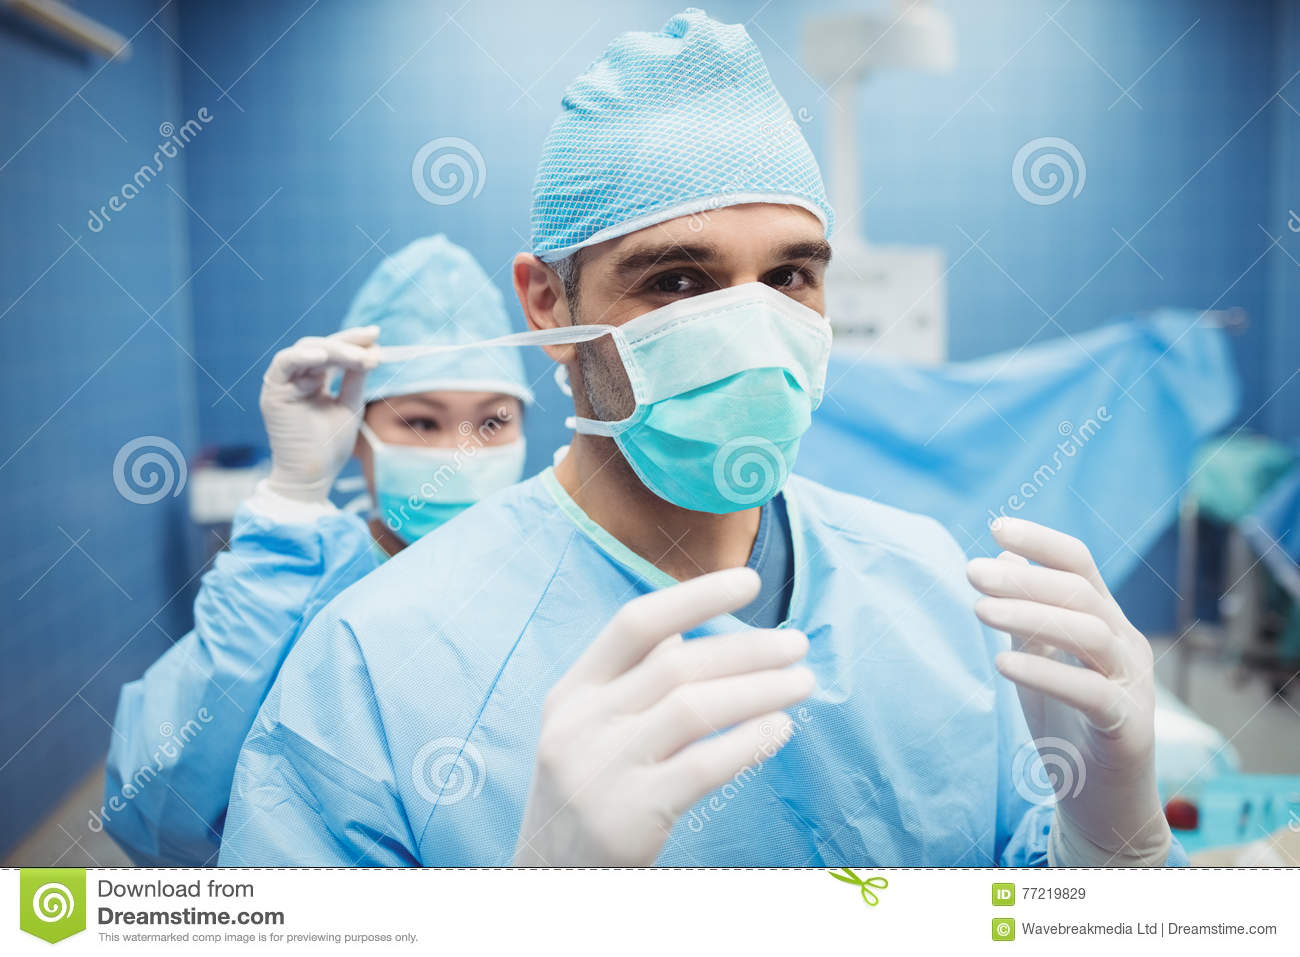mask: (597, 300, 850, 491)
